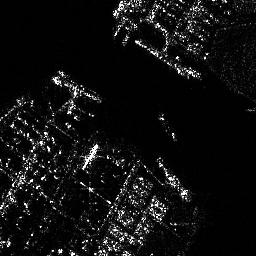ship: (156, 156, 191, 203), (50, 75, 102, 104), (158, 111, 177, 140), (81, 143, 98, 170)
